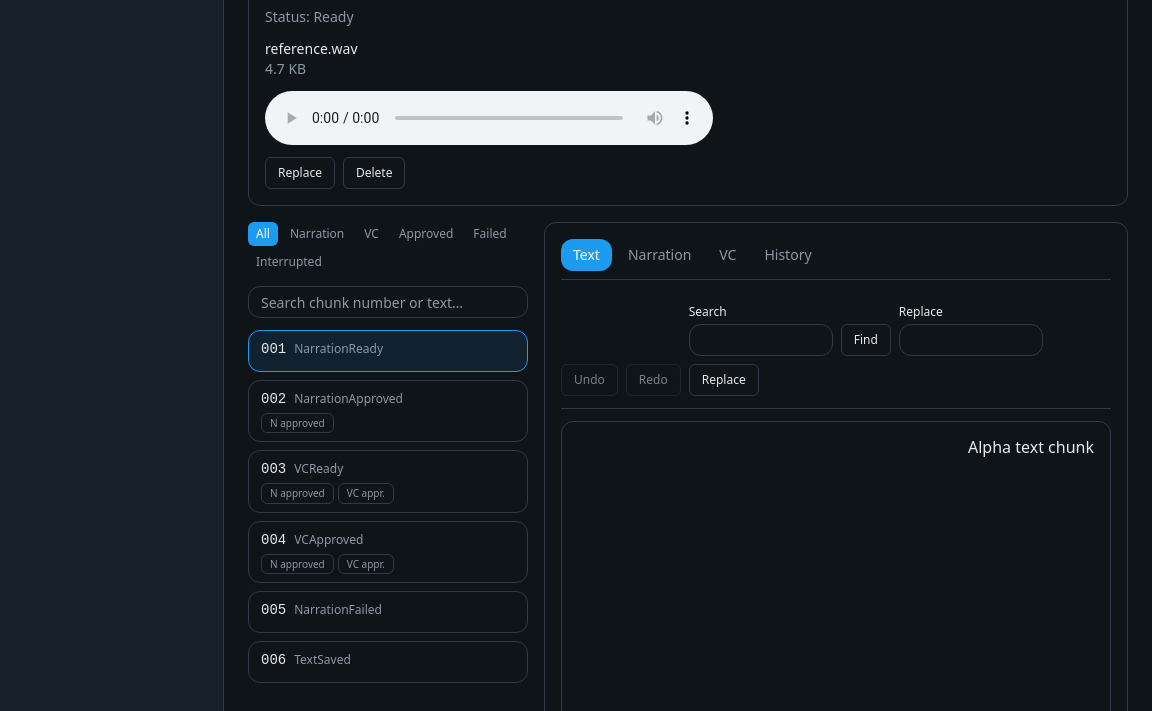
Test: E8.1-C Part Workspace › 6. rebuild narration shows warning dialog
The image size is (1152, 711).
(page scrolled)
Click the button with test id "chunk-row-1" at (339, 348), box 248,330 -> 528,372
(page scrolled)
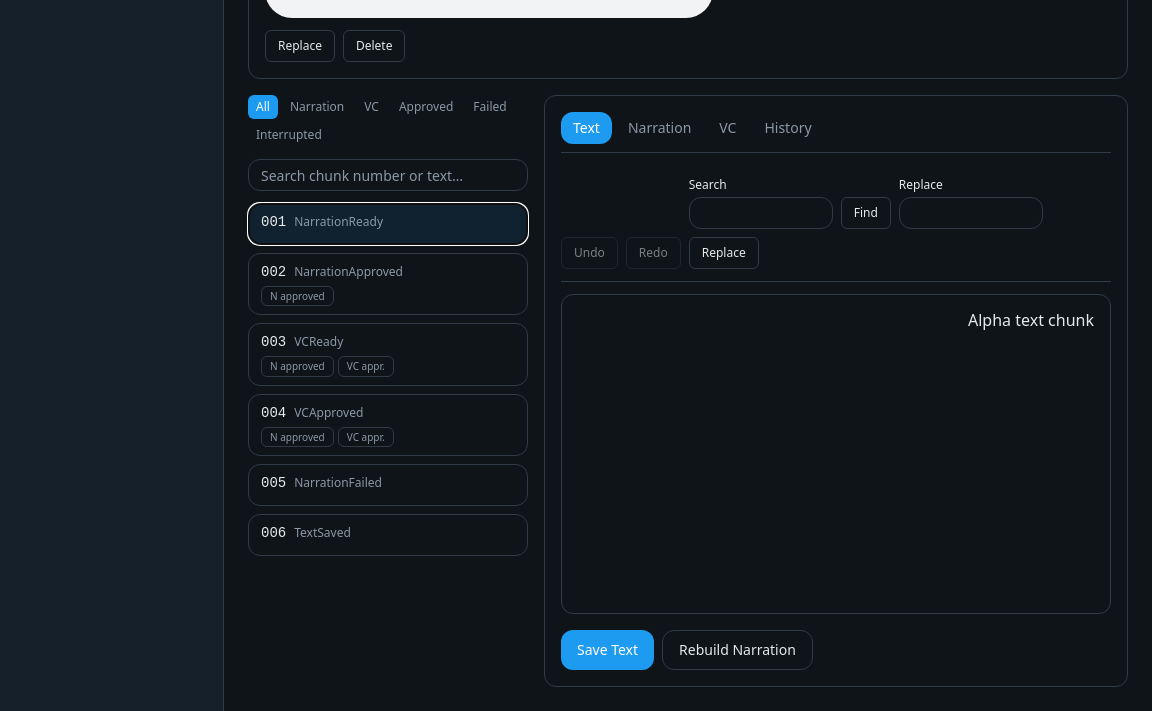
Expected: the element with test id "text-tab" is shown, 561,177 -> 1111,670
Click the button "Rebuild Narration" at (738, 650), box 662,630 -> 813,670
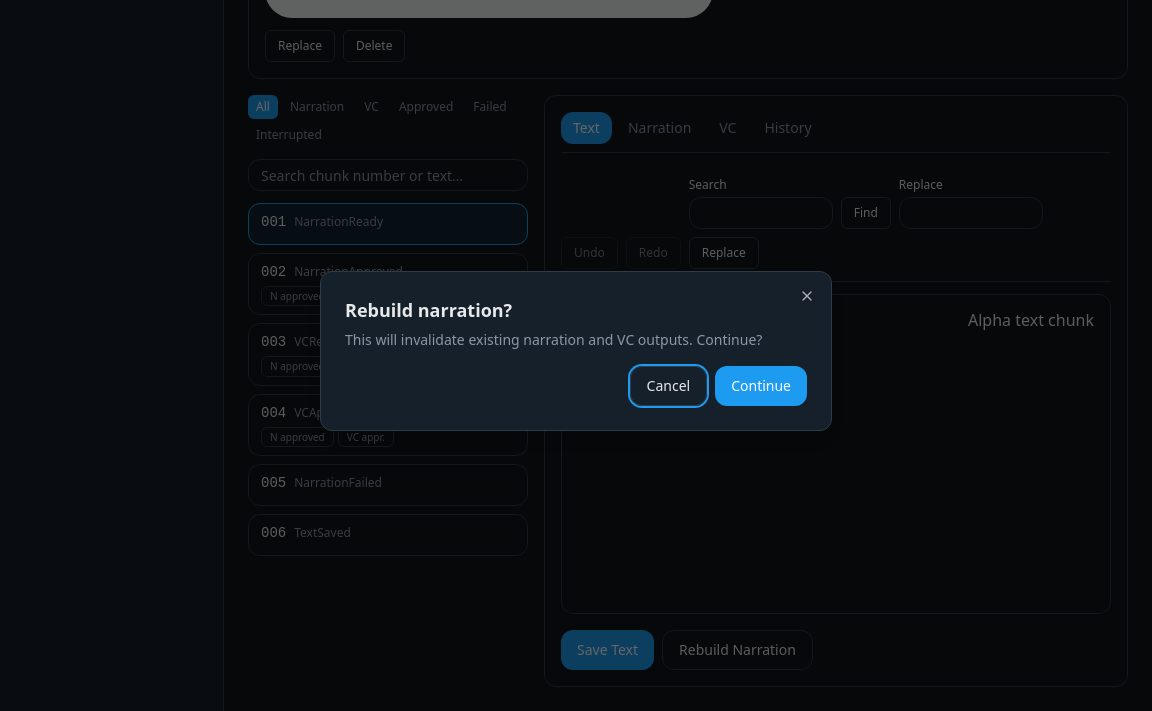
Result: the text "This will invalidate existing narration and VC outputs" is shown at 345,330 -> 762,349
